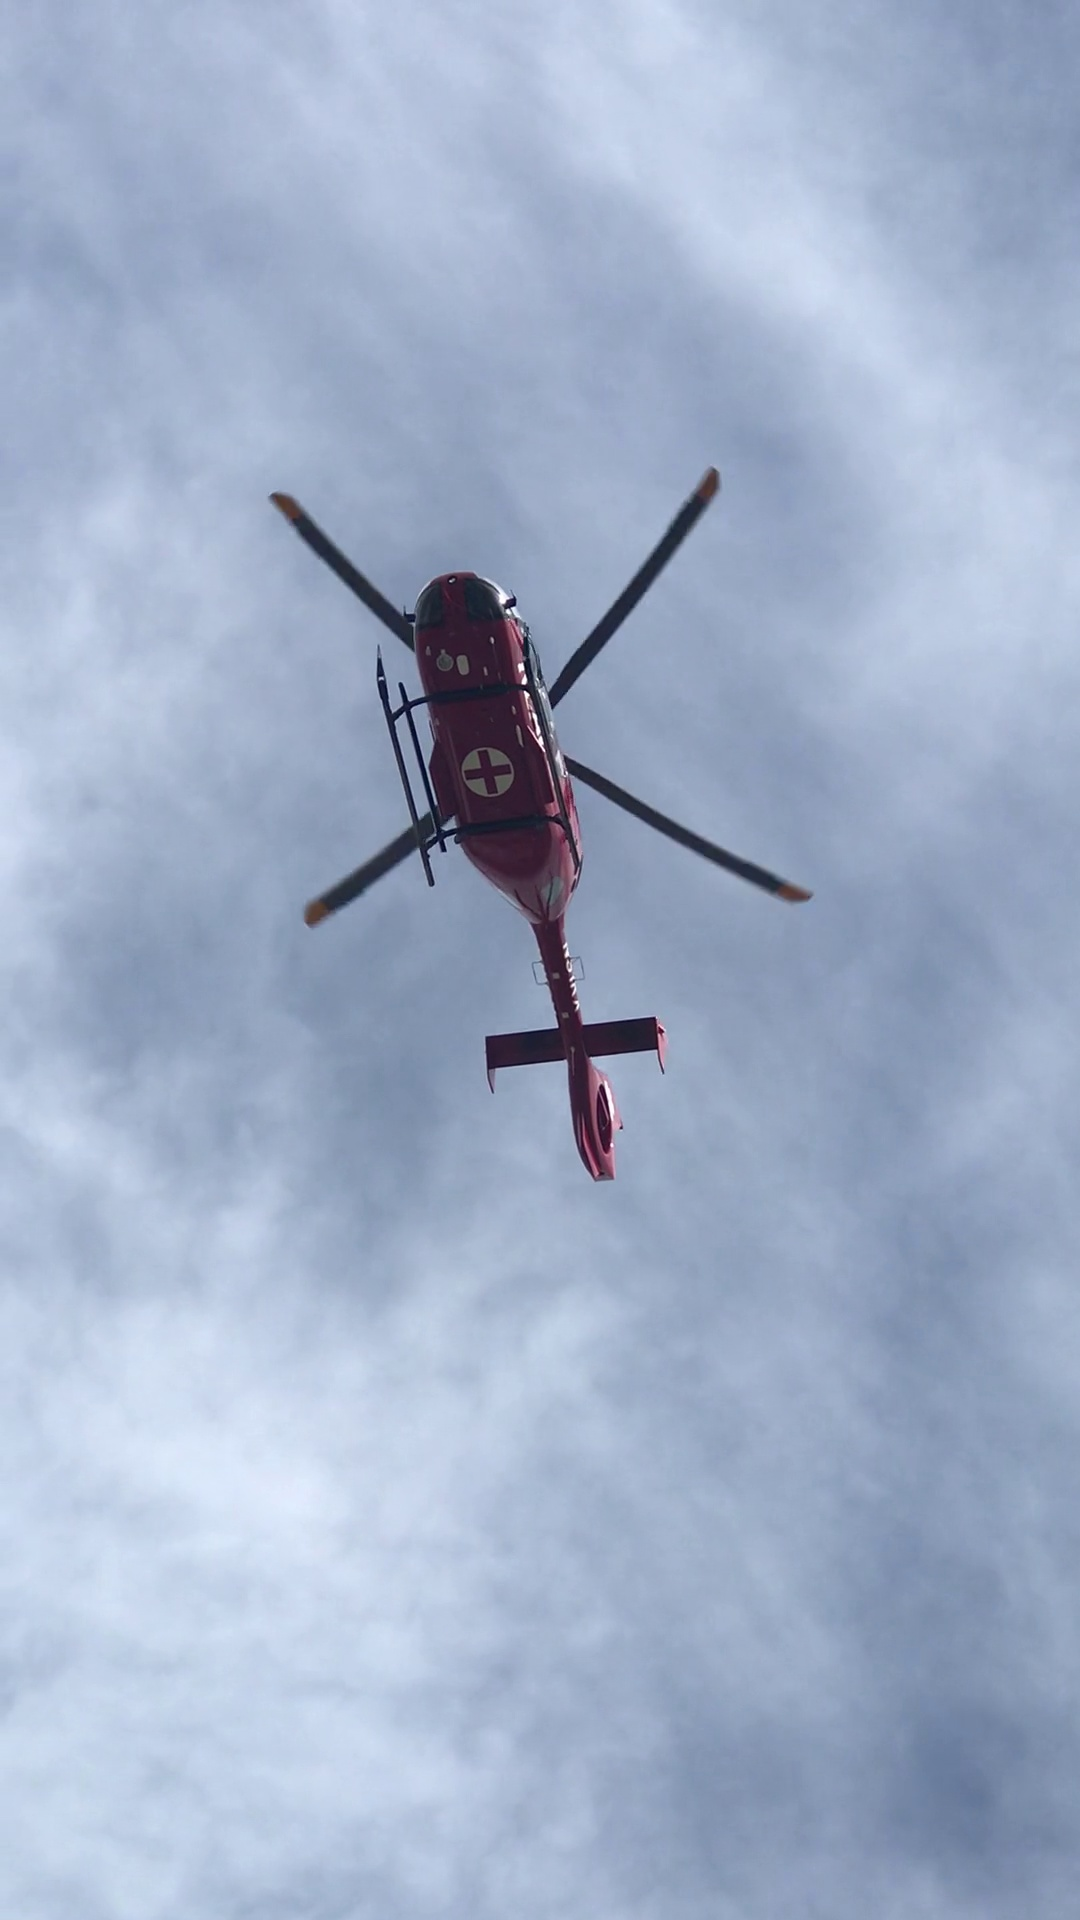heli: (272, 465, 811, 1184)
